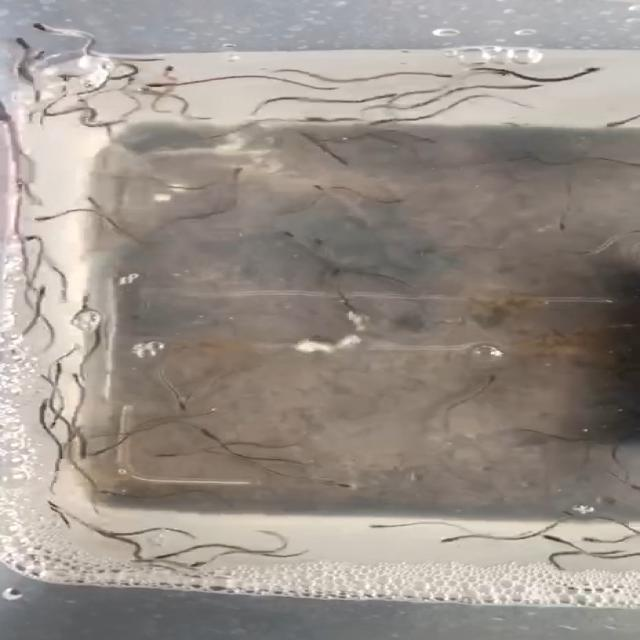inactive_glass_eel: (182, 426, 228, 450), (168, 394, 212, 414), (184, 554, 225, 575), (568, 535, 614, 552), (540, 532, 576, 553), (27, 280, 60, 302), (69, 288, 103, 308), (9, 34, 46, 52), (15, 230, 66, 243), (320, 476, 356, 494), (372, 112, 406, 131), (501, 78, 536, 96), (478, 371, 518, 386), (552, 216, 578, 239), (312, 235, 349, 251), (20, 212, 69, 224), (228, 165, 262, 182), (142, 552, 185, 564), (564, 250, 606, 262), (436, 535, 473, 548), (373, 86, 398, 105), (151, 80, 179, 96), (162, 66, 190, 82), (20, 18, 52, 32), (35, 393, 58, 412), (565, 64, 601, 76), (276, 229, 310, 241), (66, 371, 92, 386), (364, 522, 398, 532), (328, 266, 351, 280), (310, 183, 334, 195), (423, 71, 454, 78), (45, 361, 60, 372)
